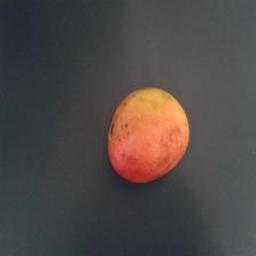Mango Semifresh: (99, 85, 202, 182)
